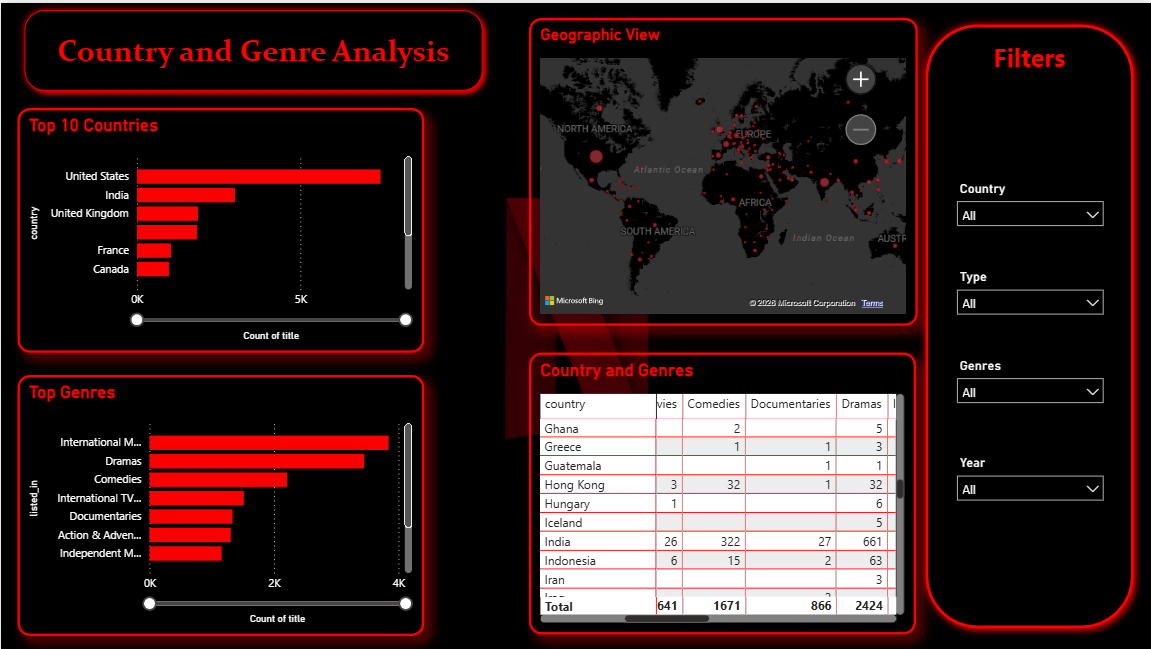

What the dashboard file says about the page in this screenshot:
{"tool":"powerbi","page":{"name":"Page 3","canvas":[1280,720],"ordinal":2},"visuals":[{"type":"map","title":"Geographic View","fields":{"Category":["netflix_titles_25.country"],"Size":["CountNonNull(netflix_titles_25.title)"]},"box":[586.7,16.7,431.7,341.7],"z":0},{"type":"barChart","title":"Top 10 Countries","fields":{"Category":["netflix_titles_25.country"],"Y":["CountNonNull(netflix_titles_25.title)"]},"box":[18.3,116.7,451.7,271.7],"z":1000},{"type":"clusteredBarChart","title":"Top Genres","fields":{"Category":["netflix_titles_25.listed_in"],"Y":["CountNonNull(netflix_titles_25.title)"]},"box":[18.3,413.3,451.7,290],"z":2000},{"type":"pivotTable","title":"Country and Genres","fields":{"Rows":["netflix_titles_25.country"],"Columns":["netflix_titles_25.listed_in"],"Values":["Measures (3).Distinct Titles"]},"box":[586.7,388.3,430,313.3],"z":3000},{"type":"shape","box":[1018.7,14.2,249.1,688.6],"z":4000},{"type":"slicer","fields":{"Values":["netflix_titles_25.country"]},"box":[1051.1,192.4,184.3,77],"z":5000},{"type":"slicer","fields":{"Values":["netflix_titles_25.type"]},"box":[1051.1,289.6,184.3,77],"z":6000},{"type":"slicer","fields":{"Values":["netflix_titles_25.listed_in"]},"box":[1051.1,388.9,184.3,72.9],"z":7000},{"type":"slicer","fields":{"Values":["netflix_titles_25.release_year"]},"box":[1051.1,496.2,184.3,77],"z":8000},{"type":"shape","box":[18.2,0,524.6,105.3],"z":9000}]}

Visuals, with their boxes in screenshot pixels (x1, y1, x2, y2), scaled from the page's 1280x720 canvas onto the 1151x649 screenshot:
"Geographic View" map: box(528, 15, 916, 323)
"Top 10 Countries" barChart: box(16, 105, 423, 350)
"Top Genres" clusteredBarChart: box(16, 373, 423, 634)
"Country and Genres" pivotTable: box(528, 350, 914, 632)
shape: box(916, 13, 1140, 633)
slicer - netflix_titles_25.country: box(945, 173, 1111, 243)
slicer - netflix_titles_25.type: box(945, 261, 1111, 330)
slicer - netflix_titles_25.listed_in: box(945, 351, 1111, 416)
slicer - netflix_titles_25.release_year: box(945, 447, 1111, 517)
shape: box(16, 0, 488, 95)
